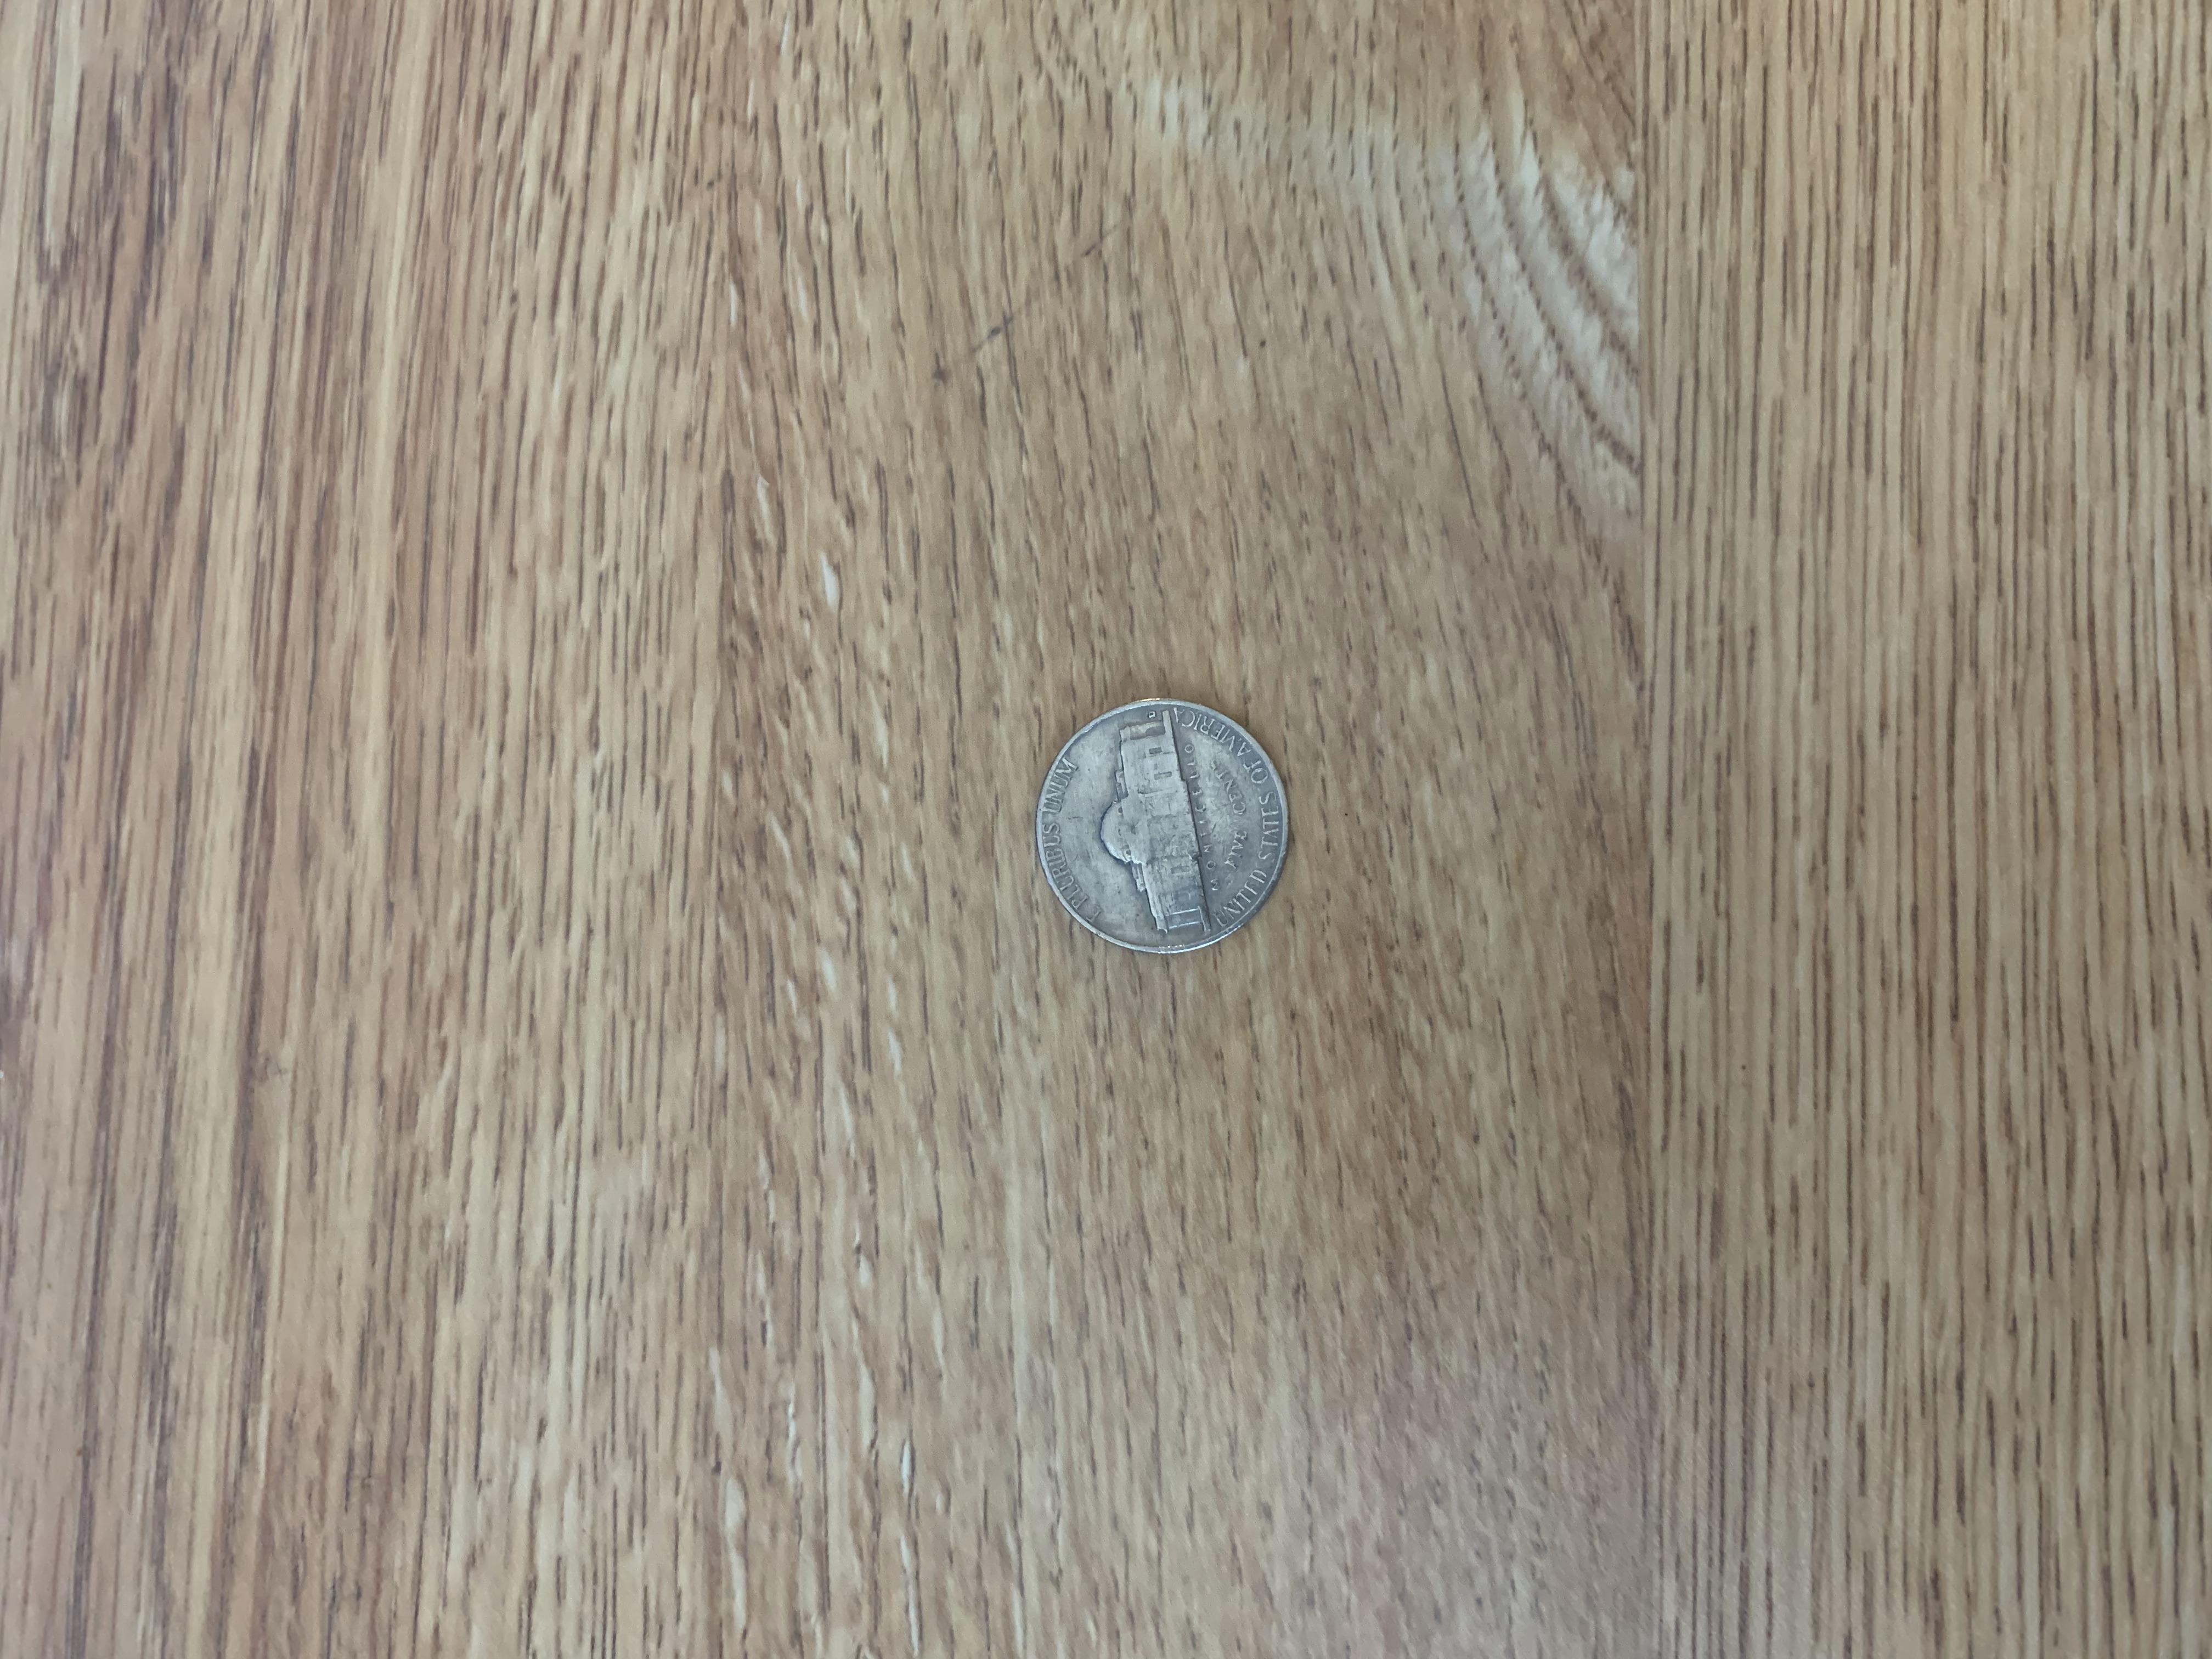Nickel: (1026, 688, 1298, 965)
